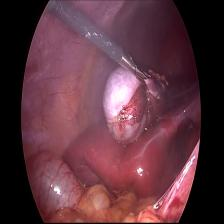Grasper: (122, 48, 153, 94)
